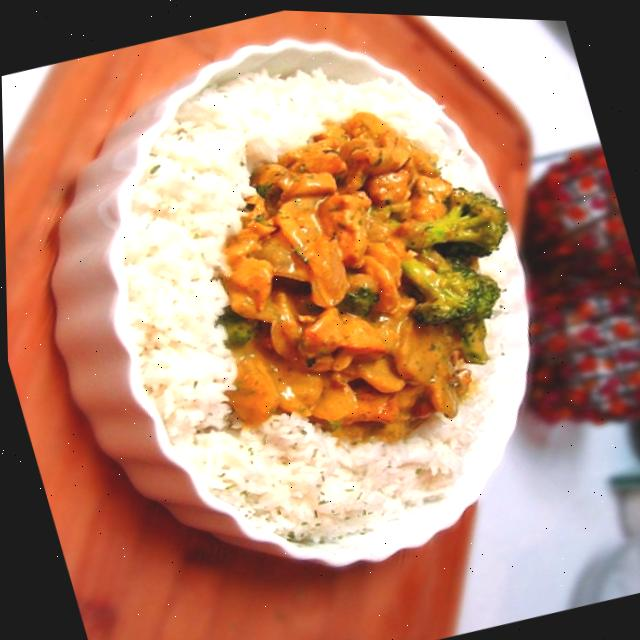米饭主食: (0, 0, 610, 620)
